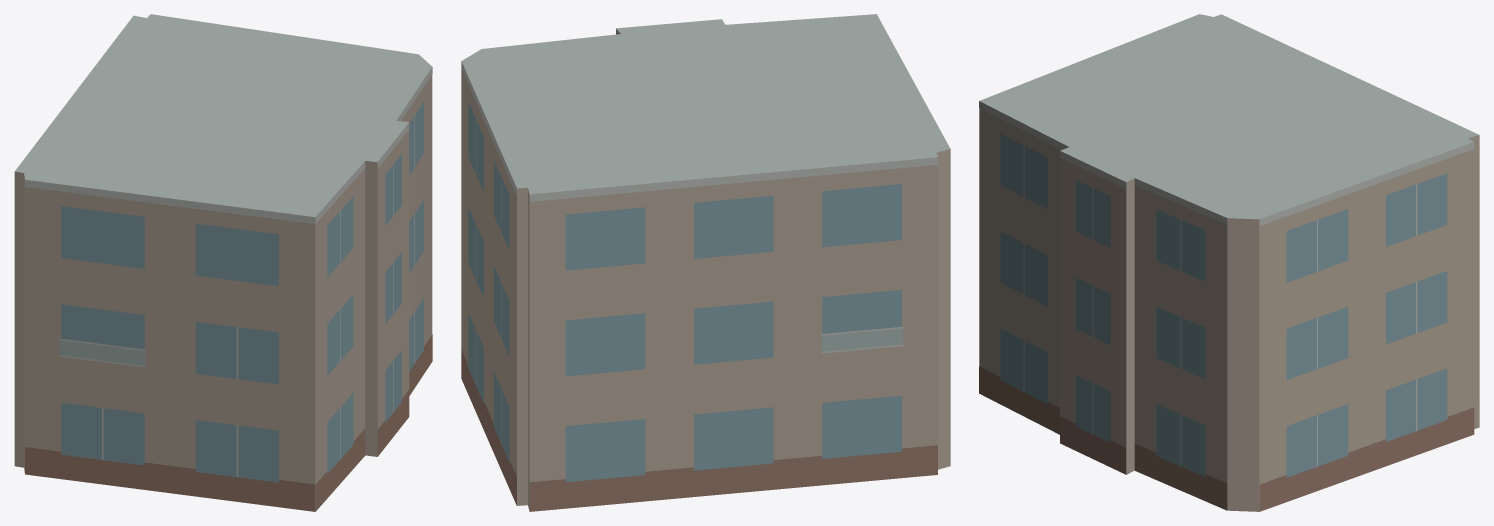
The model's file is survey-upis-32627733.glb.
3 views of the same model, side by side, from view 1: azimuth 30°, elevation 25°; view 2: azimuth 150°, elevation 25°; view 3: azimuth 270°, elevation 25° (orthographic). The views are drawn at different scales.
Parts seen in each view (by area): view 1: survey-upis-32627733.tmp; view 2: survey-upis-32627733.tmp; view 3: survey-upis-32627733.tmp.
Boxes of the visible parts, x1,y1,x2,y2 form: survey-upis-32627733.tmp: (14, 14, 432, 511); survey-upis-32627733.tmp: (461, 14, 950, 511); survey-upis-32627733.tmp: (979, 14, 1479, 511).
Size of the model in its own units: 15.36 by 10.2 by 15.82.
